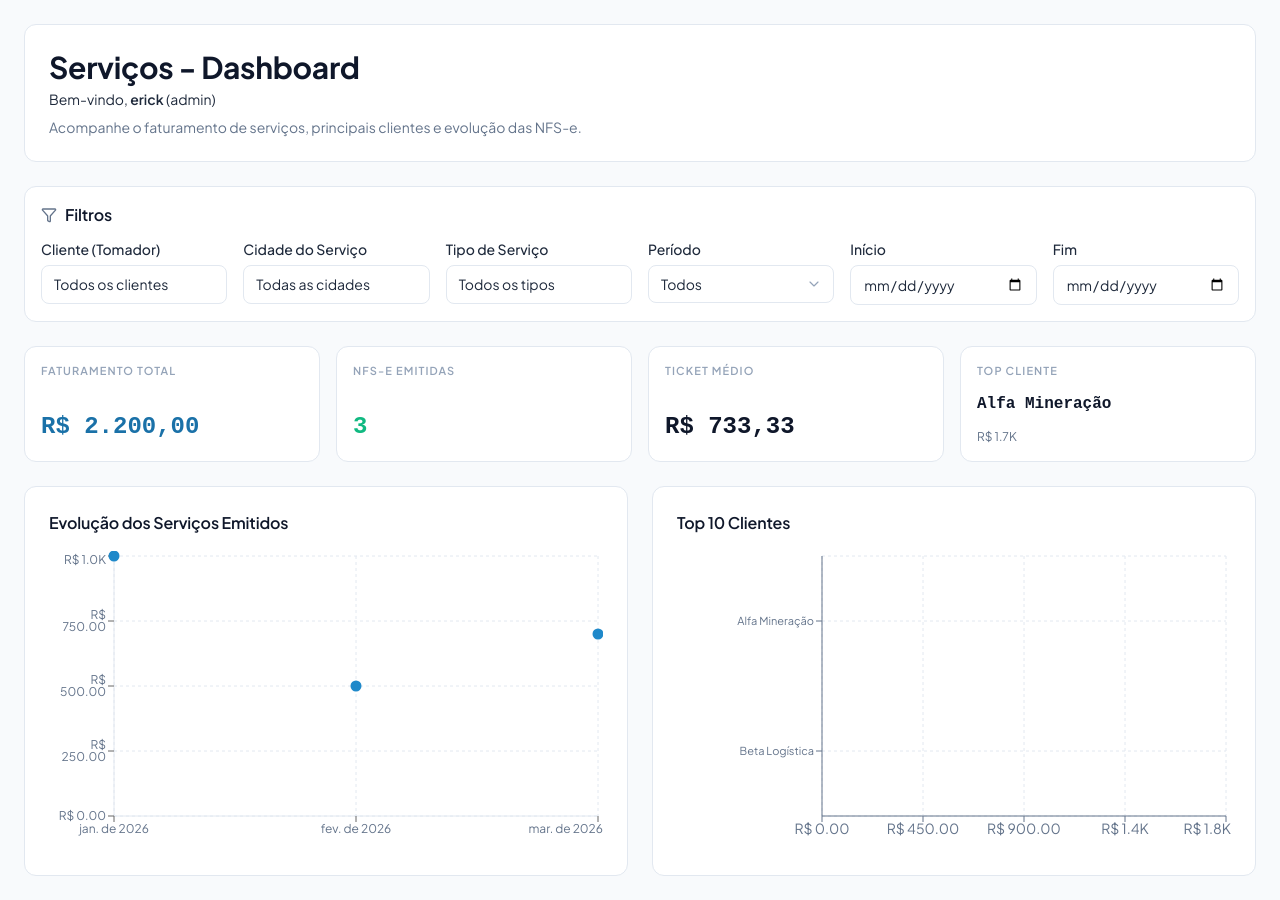
Test: KPIs de Serviços › o filtro Cidade do Serviço chega ao recorte e muda os KPIs
Click the button "Todas as cidades".
click(336, 284)  # box left=243, top=265, right=430, bottom=304
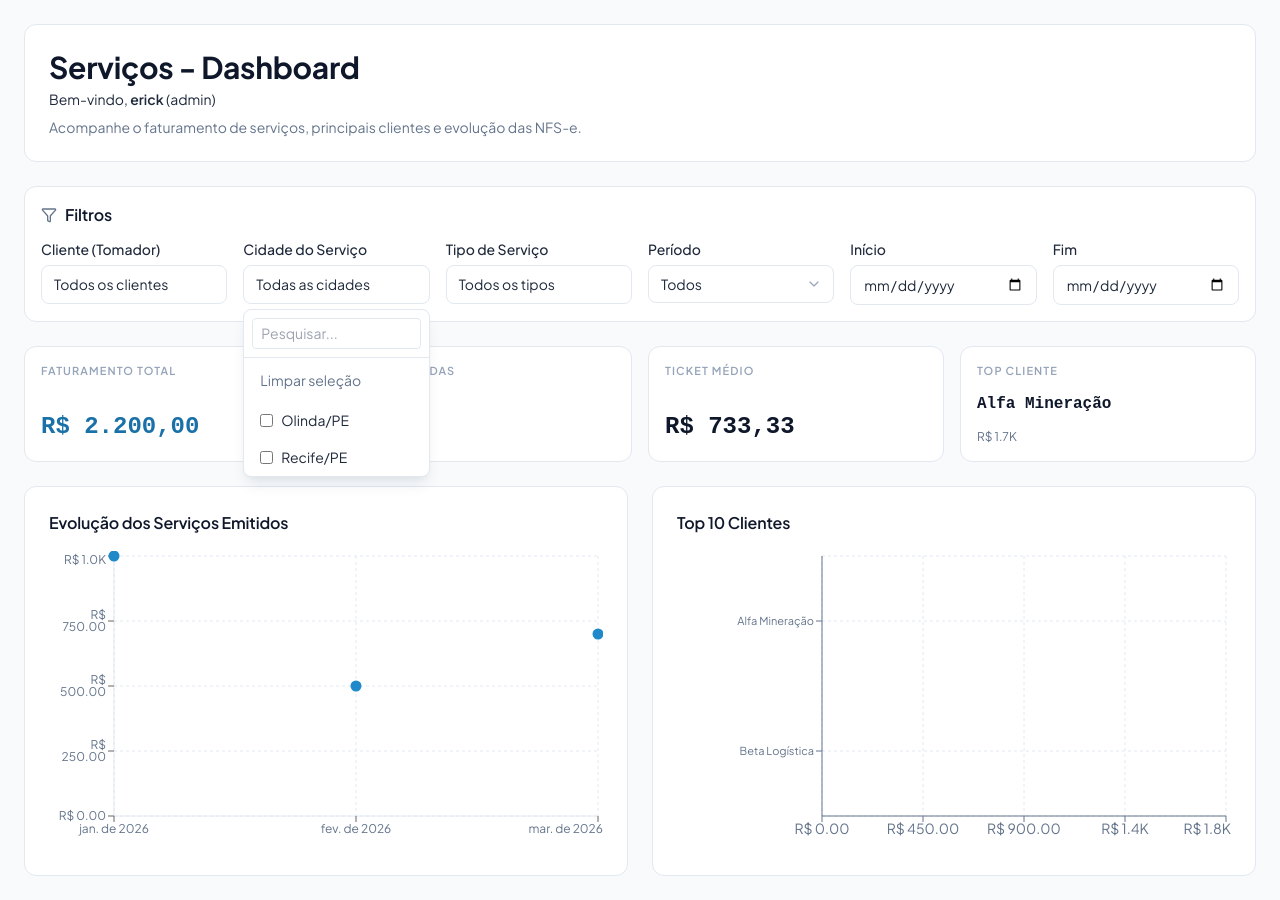
Click the checkbox labelled "Olinda/PE".
click(267, 420)  # box left=260, top=414, right=273, bottom=427
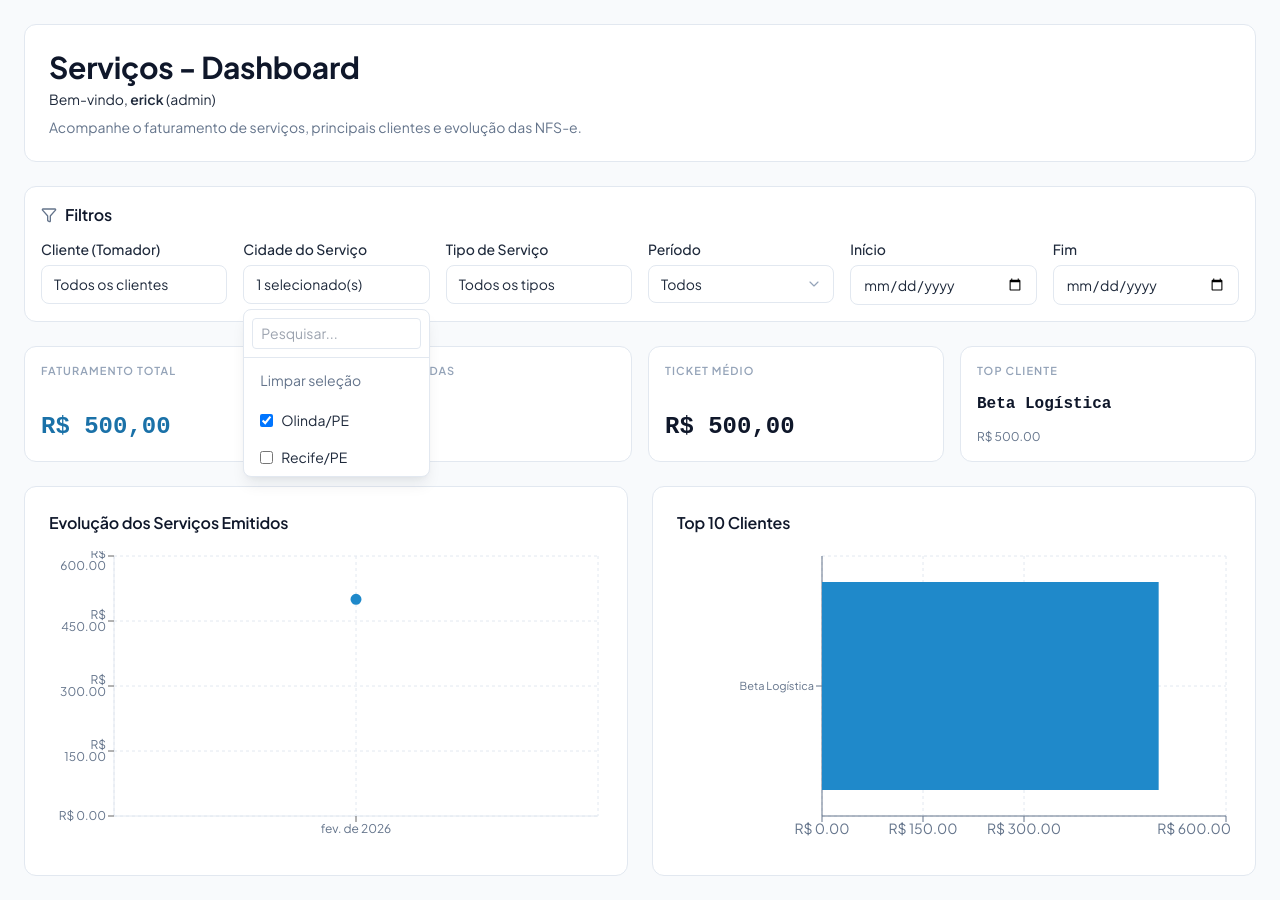
expect the text "R$ 500,00" below "Faturamento Total" is shown: met, box left=41, top=413, right=171, bottom=440
